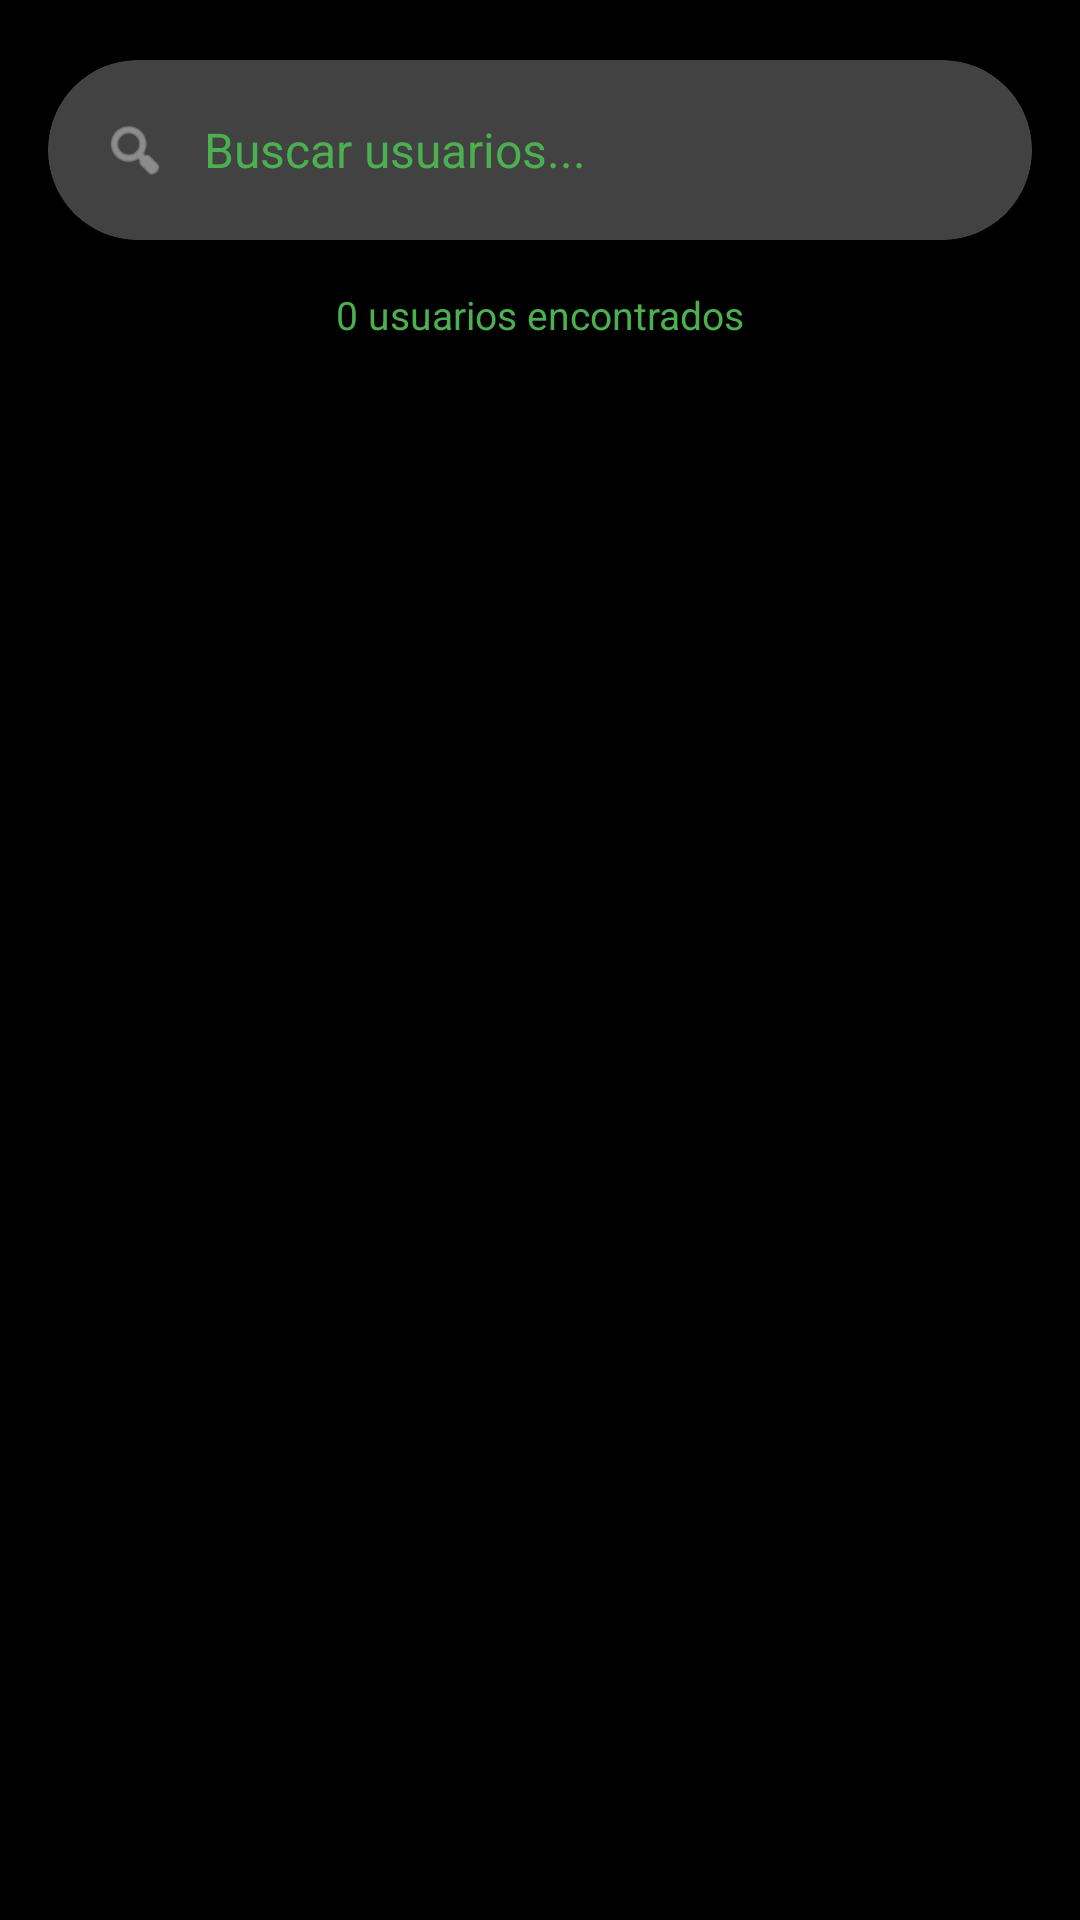

Locate icon controls on the screen. Image size 1080px×1920px, boxes as bbox=[x1, y1, x2, y2].
search: bbox=[111, 126, 159, 175]
